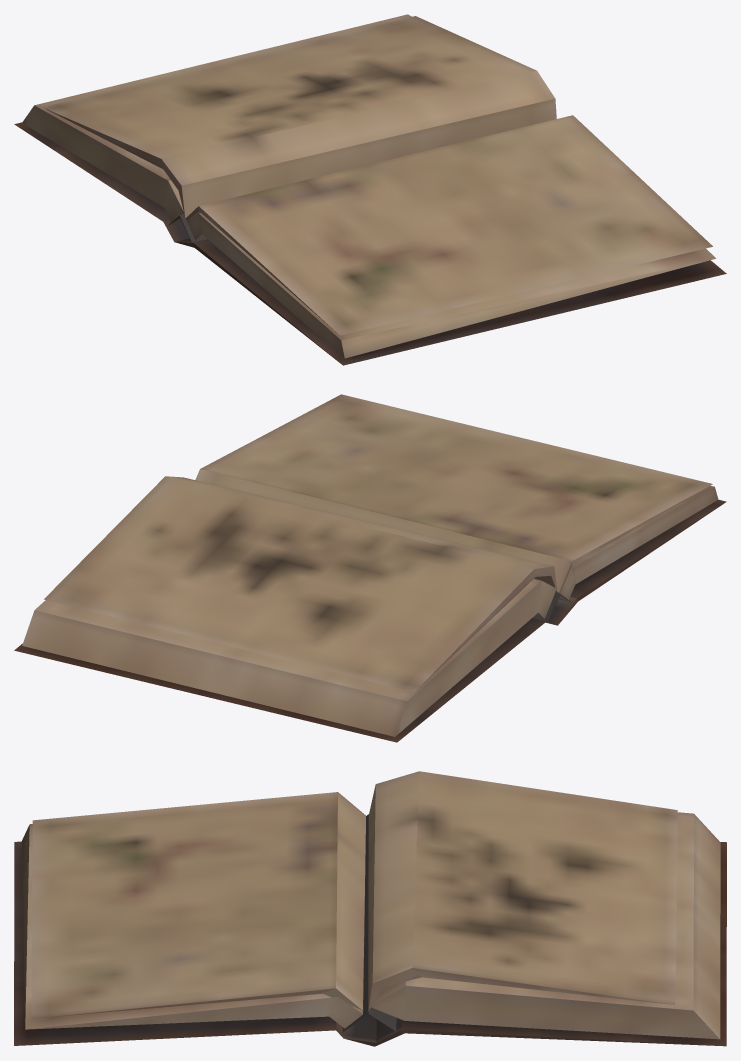
Rendered from book-open.lod1.glb.
3 renders of one model, top to bottom at view 1: azimuth 30°, elevation 25°; view 2: azimuth 150°, elevation 25°; view 3: azimuth 270°, elevation 25°, orthographic. The views are drawn at different scales.
Visible parts, largest first — view 1: book-open; view 2: book-open; view 3: book-open.
Boxes of the visible parts, bbox=[...] form: book-open: bbox=[14, 14, 726, 365]; book-open: bbox=[14, 394, 726, 742]; book-open: bbox=[14, 771, 726, 1046].
Bounding box in the file's own units: 0.2397 × 0.042 × 0.3564.
Materials: 1 (1 with a texture image).
